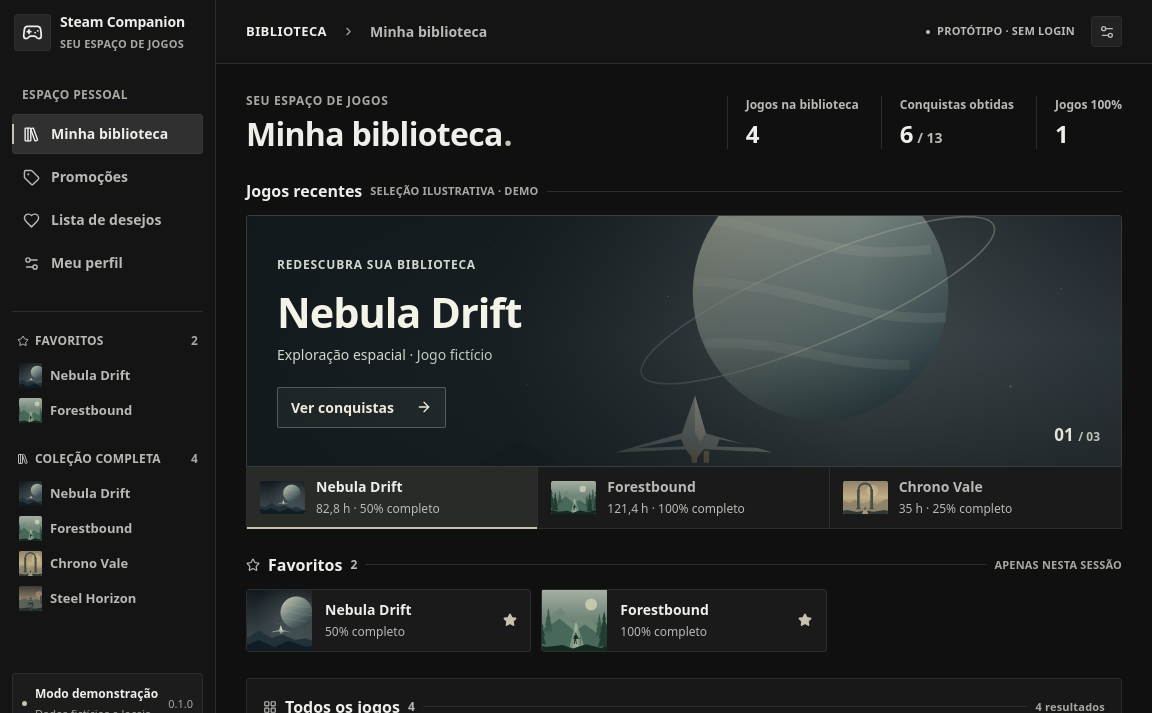
Test: biblioteca visual — organização e acessibilidade › permite esvaziar e recompor favoritos sem excluir jogos
Click the button named "Remover Nebula Drift dos favoritos" at (510, 620), box [497,605,522,635]
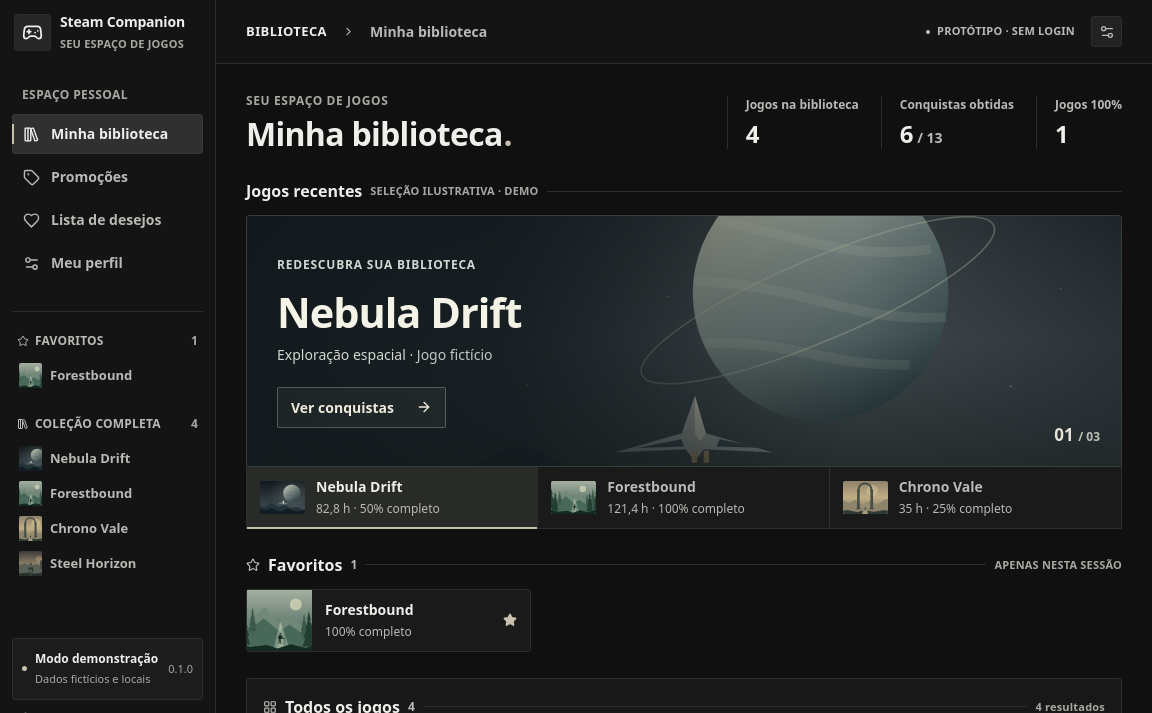
Click the button named "Remover Forestbound dos favoritos" at (510, 620), box [497,605,522,635]
(page scrolled)
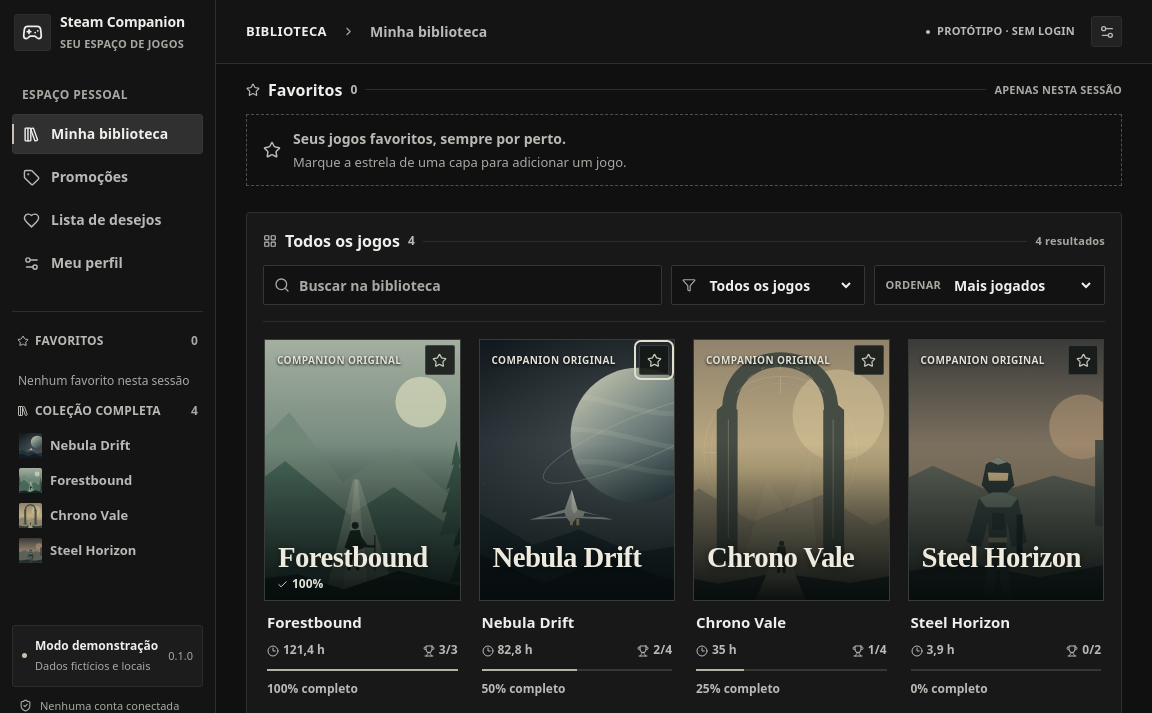
Expected: the number of buttons "% completo" is 4, [263,338,462,702]; [478,338,676,702]; [692,338,890,702]; [906,338,1105,702]
Expected: the text "Seus jogos favoritos, sempre por perto." is shown, [293,129,566,148]
Type keys " "
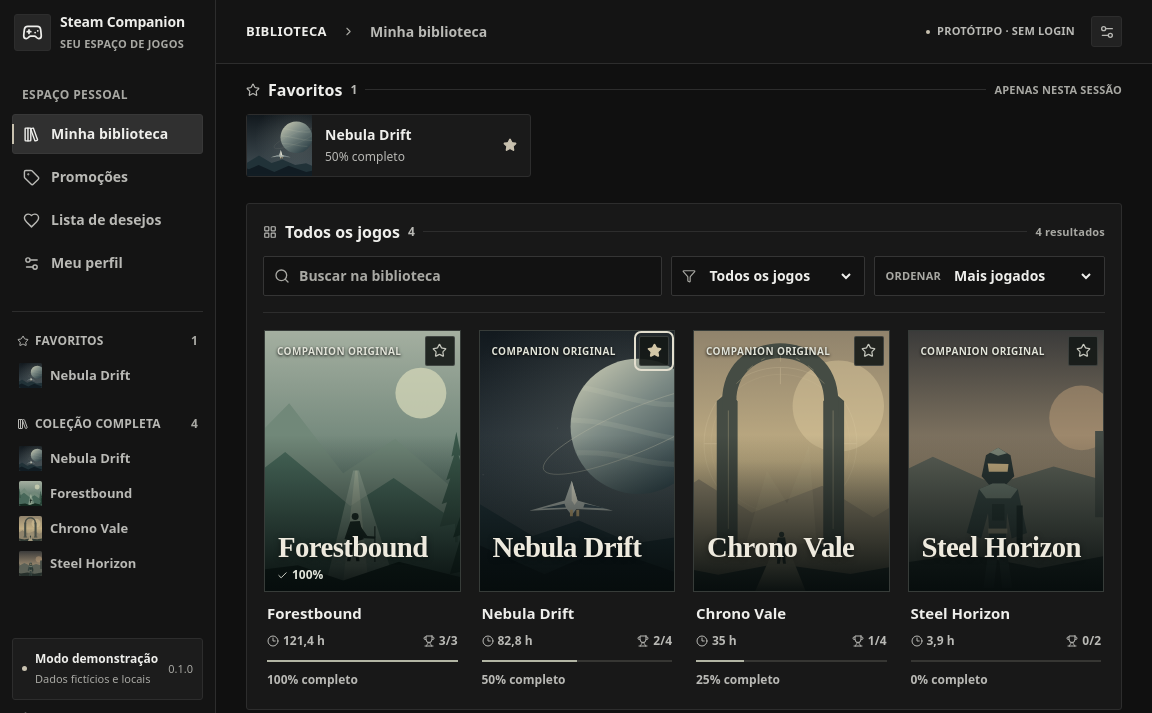
Expected: the button with aria-label "Abrir favorito: Nebula Drift" is shown, [247,115,489,176]
